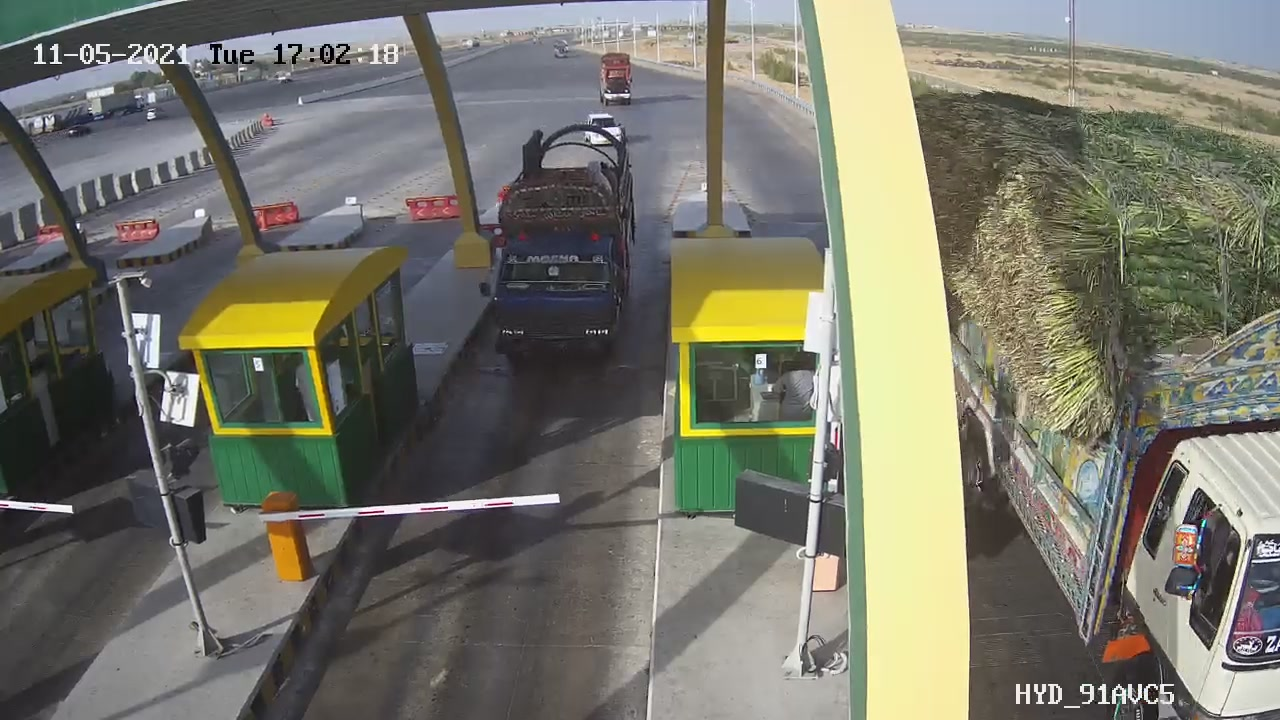F5: (466, 112, 656, 398)
